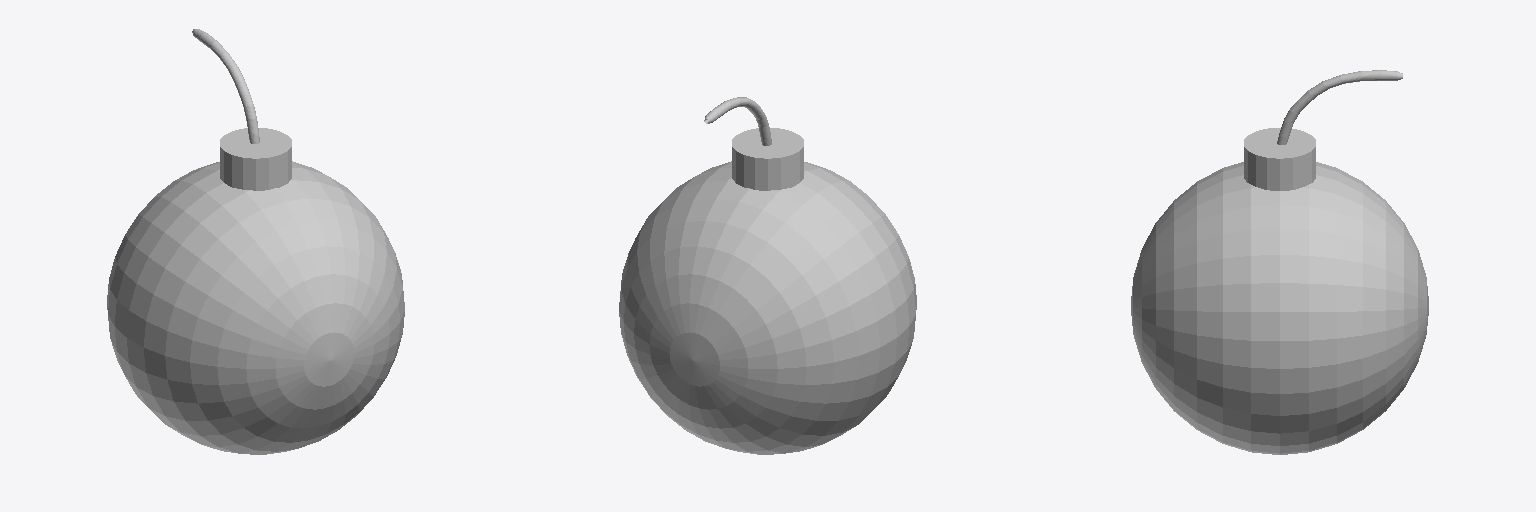
File: bomb.obj
3 renders of one model, left to right at view 1: azimuth 30°, elevation 25°; view 2: azimuth 150°, elevation 25°; view 3: azimuth 270°, elevation 25°, orthographic.
Parts seen in each view (by area): view 1: bomb; view 2: bomb; view 3: bomb.
Part boxes in pixels (bbox=[...]): bomb: bbox=[107, 29, 404, 454]; bomb: bbox=[619, 97, 916, 454]; bomb: bbox=[1131, 70, 1428, 454].
Size of the model in its own units: 1.96 by 2.69 by 1.96.